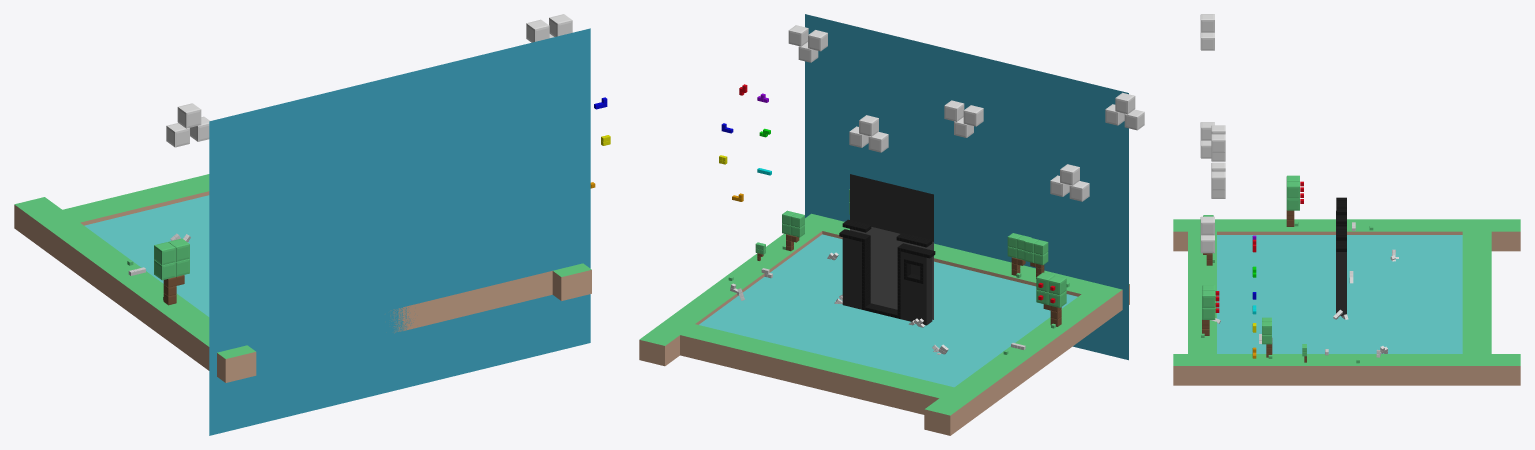
3 renders of one model, left to right at view 1: azimuth 30°, elevation 25°; view 2: azimuth 150°, elevation 25°; view 3: azimuth 270°, elevation 25°, orthographic. The views are drawn at different scales.
Parts seen in each view (by area): view 1: sky, ground, water, ground.002, ground.001, tree, cloud.004, ground.003, cloud.003; view 2: sky, water, border_top_02.003, ground.001, ground, ground.003, ground.002, tree, cloud.004, cloud.003, cloud.000, cloud.002 (+4 smaller); view 3: water, ground.003, ground, ground.001, ground.002, border_top_02.003, tree, tree.003, cloud.001, cloud.000, cloud.003, cloud.004 (+2 smaller).
Part boxes in pixels (x1,y1,x2,y2): sky: (209, 28, 590, 435); ground: (14, 197, 256, 382); water: (84, 195, 209, 316); ground.002: (199, 271, 552, 369); ground.001: (32, 174, 209, 250); tree: (154, 238, 189, 305); cloud.004: (166, 103, 209, 147); ground.003: (552, 263, 591, 300); cloud.003: (526, 14, 572, 42); sky: (805, 14, 1128, 360); water: (699, 234, 1077, 387); border_top_02.003: (839, 174, 935, 325); ground.001: (654, 318, 980, 424); ground: (924, 283, 1129, 435); ground.003: (639, 214, 836, 366); ground.002: (805, 214, 1122, 317); tree: (1036, 272, 1066, 326); cloud.004: (1105, 92, 1144, 130); cloud.003: (788, 25, 827, 62); cloud.000: (944, 100, 983, 137); cloud.002: (1050, 164, 1089, 201); water: (1217, 235, 1462, 353); ground.003: (1173, 354, 1520, 385); ground: (1173, 219, 1520, 251); ground.001: (1462, 219, 1491, 385); ground.002: (1188, 231, 1216, 385); border_top_02.003: (1336, 197, 1346, 315); tree: (1286, 175, 1303, 226); tree.003: (1202, 285, 1219, 335); cloud.001: (1200, 216, 1214, 253); cloud.000: (1211, 125, 1225, 161); cloud.003: (1211, 162, 1225, 198); cloud.004: (1200, 14, 1214, 50).
Size of the model in its own units: 12255 by 8039 by 9600.
